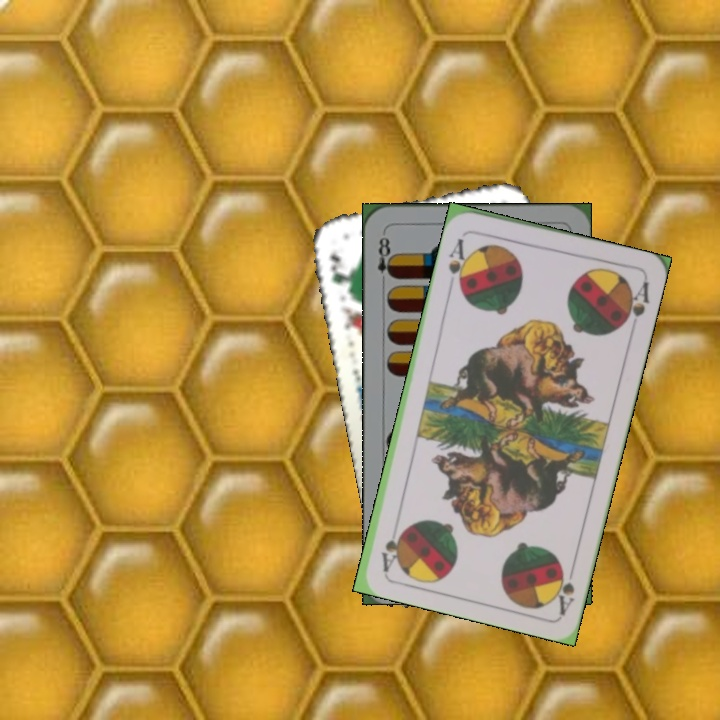E8: (374, 229, 397, 288)
GK: (326, 249, 354, 297)
SA: (549, 557, 578, 616), (444, 234, 472, 291)
